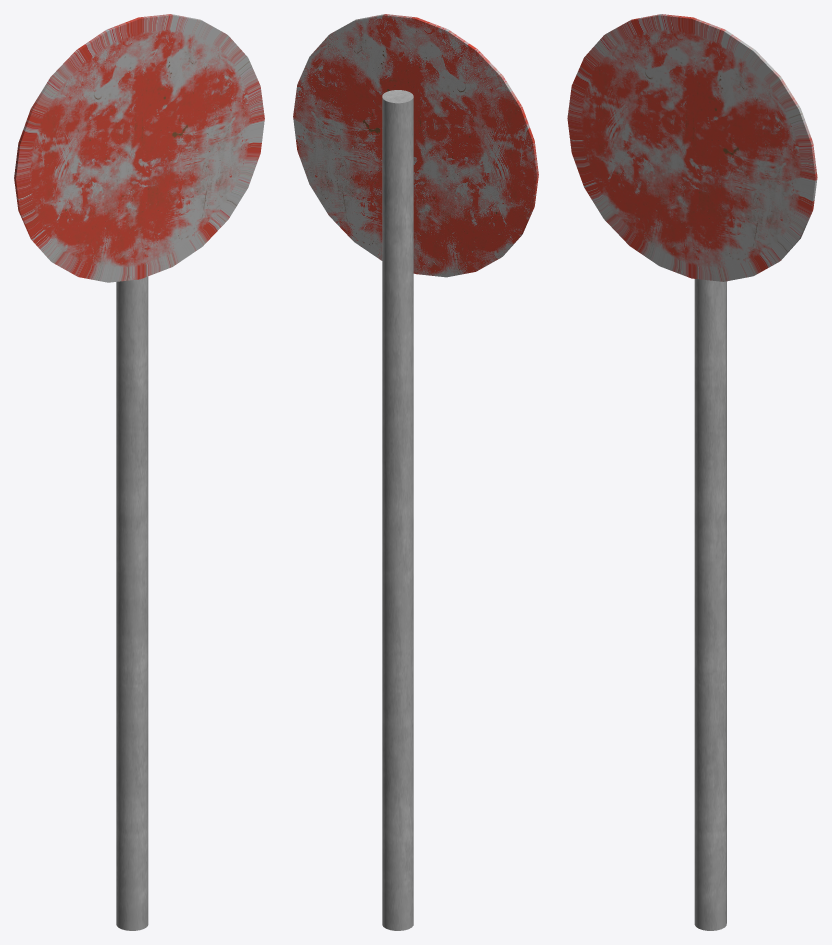
File: old_sign.glb
3 views of the same model, side by side, from view 1: azimuth 30°, elevation 25°; view 2: azimuth 150°, elevation 25°; view 3: azimuth 330°, elevation 25° (orthographic). The views are drawn at different scales.
Parts seen in each view (by area): view 1: g (×2); view 2: g (×2); view 3: g (×2).
Part boxes in pixels (left/top/right/bottom): g (×2): left=14, top=14, right=264, bottom=930; g (×2): left=293, top=14, right=538, bottom=930; g (×2): left=567, top=14, right=817, bottom=930.
Size of the model in its own units: 2 by 7.04 by 0.3029.
1 material, 1 textured.
